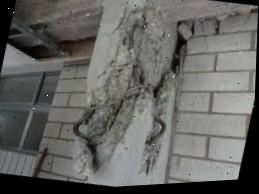spalling: (72, 3, 175, 176)
